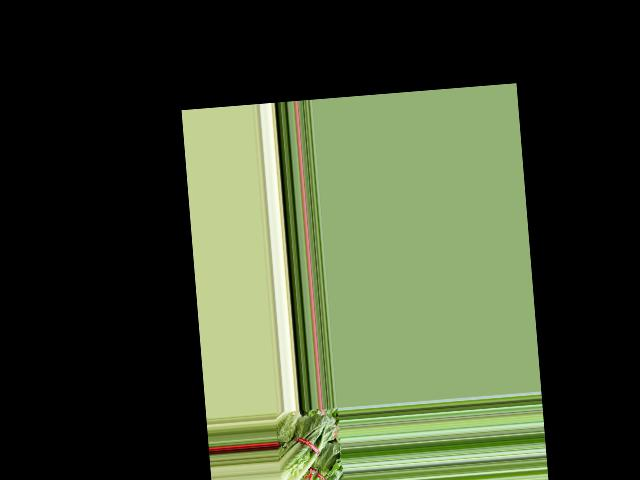lettuce: (274, 412, 341, 480)
